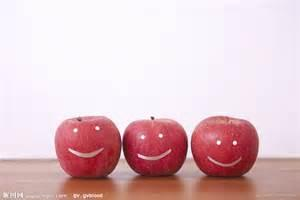apple: (51, 112, 119, 177), (125, 114, 189, 177), (196, 115, 259, 176)
